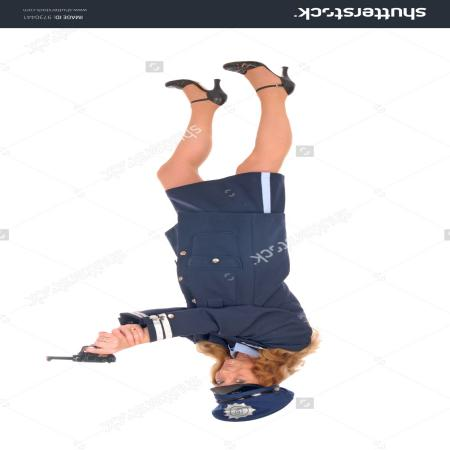Pistol: (45, 344, 116, 364)
